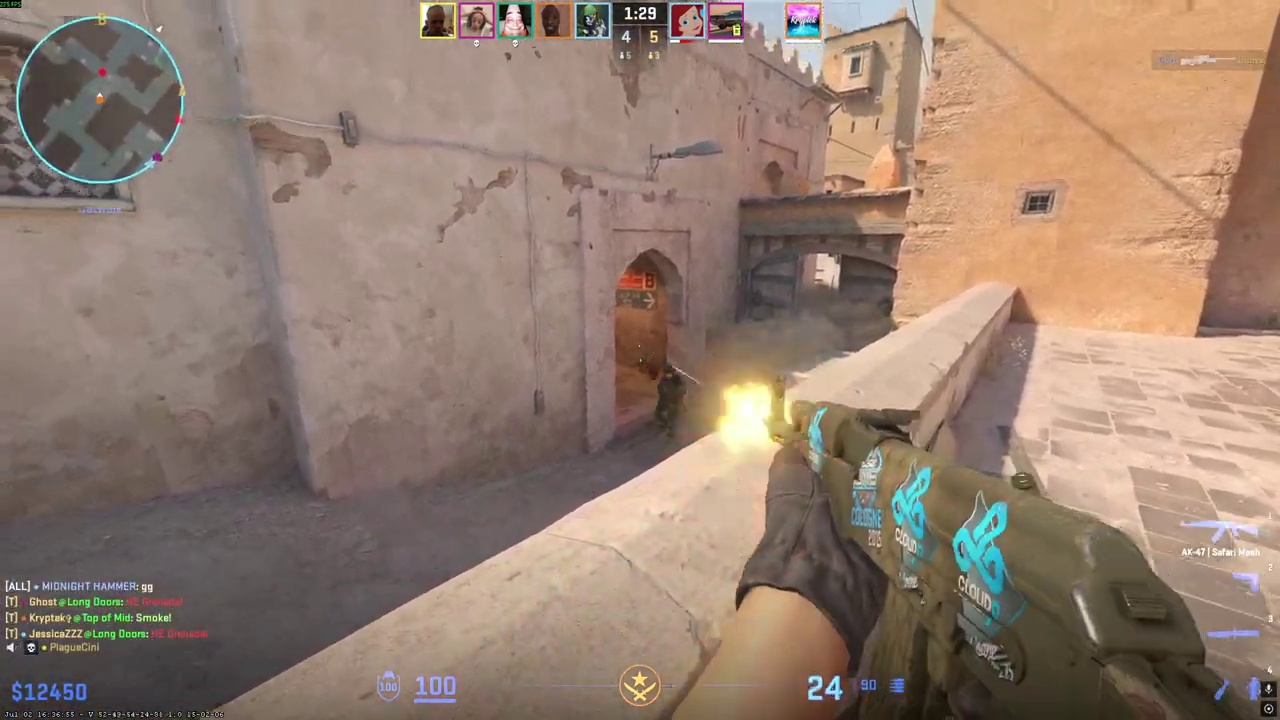CT: (654, 365, 687, 435)
